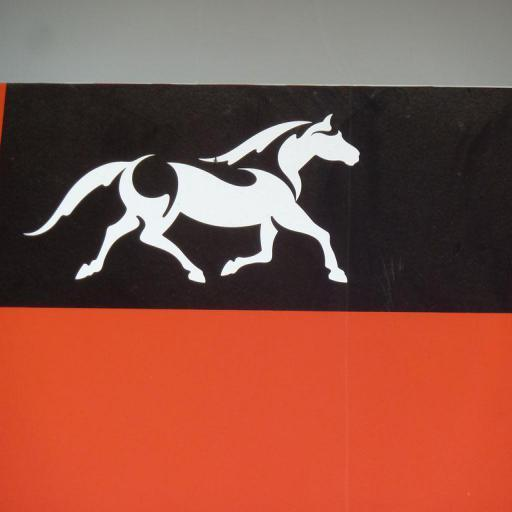horse: (22, 114, 362, 286)
